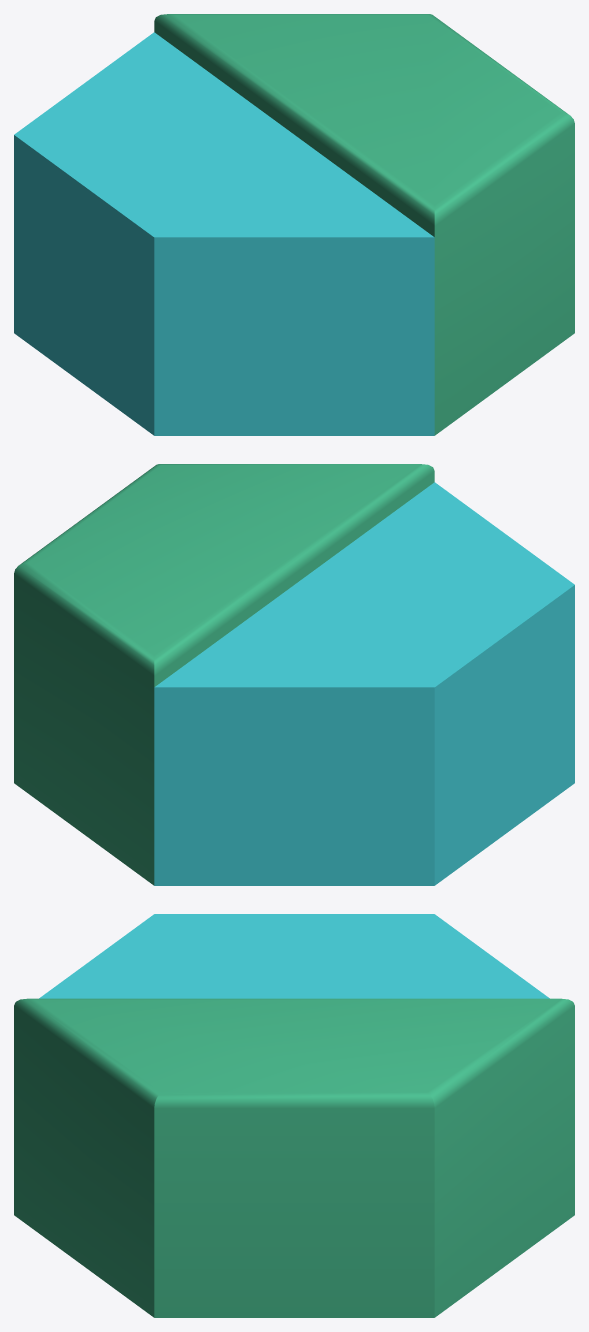
Rendered from hex_forest_waterB.glb.
3 views of the same model, one above another, from view 1: azimuth 30°, elevation 25°; view 2: azimuth 150°, elevation 25°; view 3: azimuth 270°, elevation 25° (orthographic).
Parts seen in each view (by area): view 1: hex_forest_waterB; view 2: hex_forest_waterB; view 3: hex_forest_waterB.
Boxes of the visible parts, x1,y1,x2,y2 form: hex_forest_waterB: [14, 14, 574, 435]; hex_forest_waterB: [14, 464, 574, 885]; hex_forest_waterB: [14, 914, 574, 1317].
Bounding box in the file's own units: 3.82 × 1.91 × 4.41.
